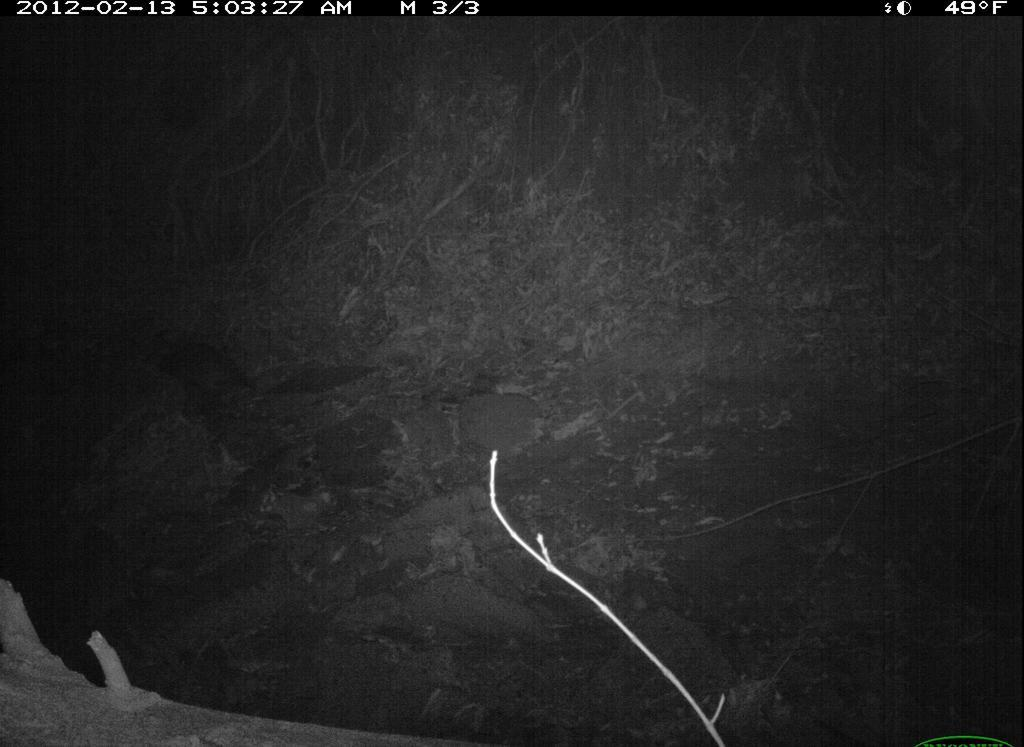raccoon: (143, 316, 260, 409)
